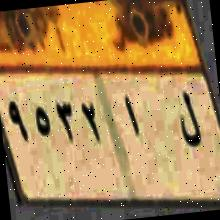2: (78, 92, 103, 152)
3: (54, 94, 78, 149)
5: (31, 95, 54, 146)
9: (6, 94, 32, 150)
alif: (118, 92, 142, 144)
laam: (170, 79, 204, 155)
